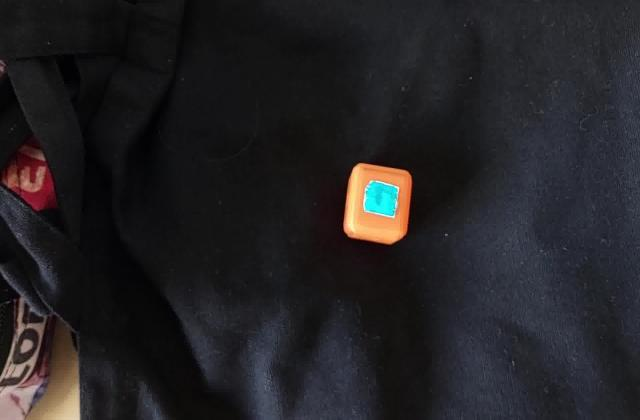blue: (374, 190, 394, 212)
sticker: (340, 161, 412, 246)
